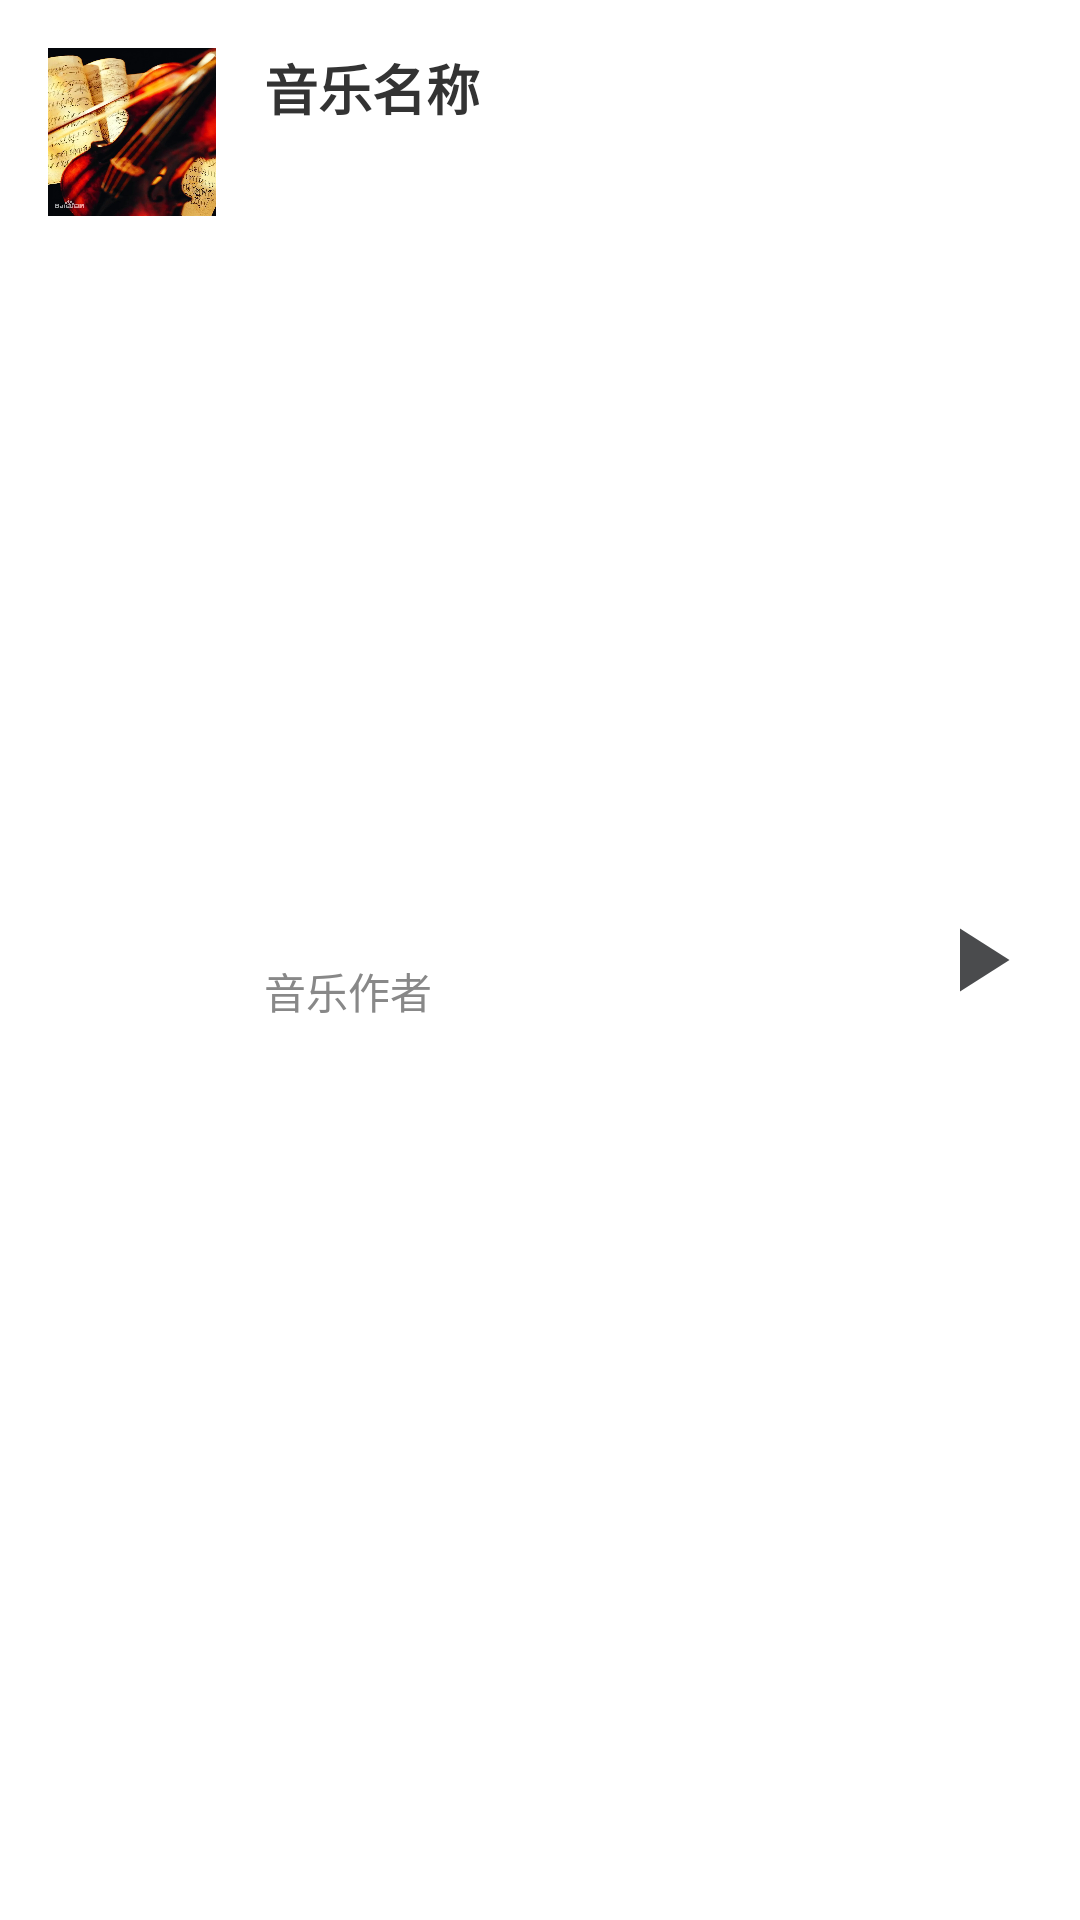

Icons on this 1080x1920 Android screen, each with the point to tap as [x,y]:
play arrow: [984,960]
